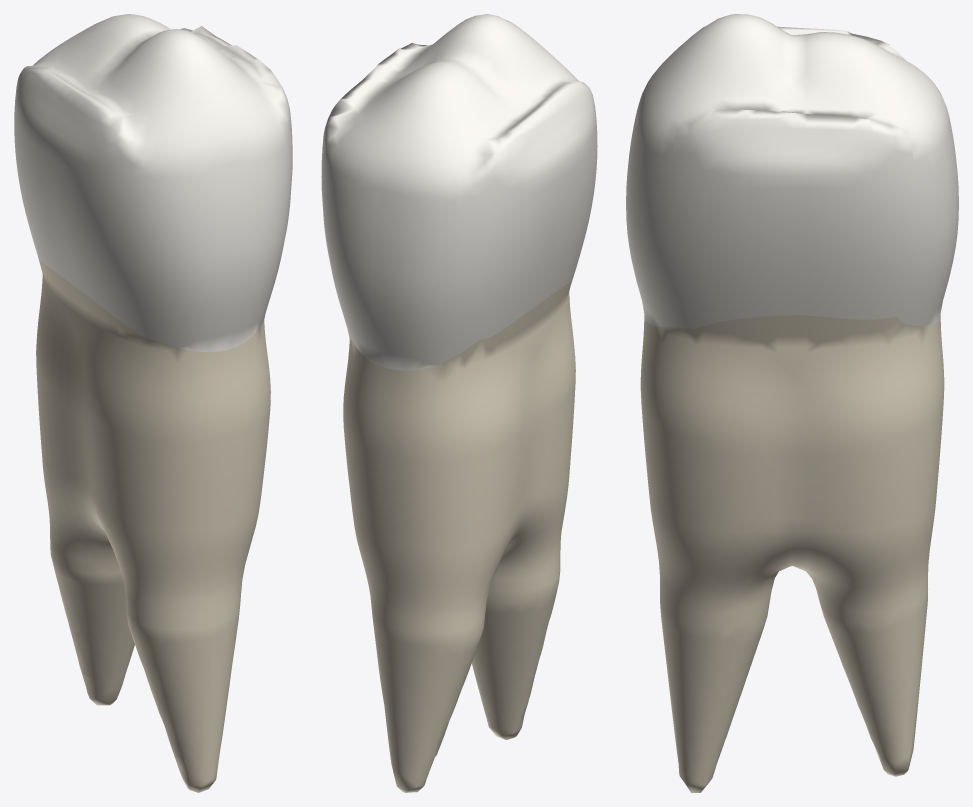
3 renders of one model, left to right at view 1: azimuth 30°, elevation 25°; view 2: azimuth 150°, elevation 25°; view 3: azimuth 270°, elevation 25°, orthographic. The views are drawn at different scales.
Parts seen in each view (by area): view 1: root, V, D, O, M; view 2: root, L, D, O, M; view 3: root, M, O, V, L, D.
Boxes of the visible parts, left/top/right/bottom form: root: left=36, top=256, right=270, bottom=792; V: left=131, top=59, right=291, bottom=352; D: left=14, top=55, right=141, bottom=335; O: left=51, top=14, right=261, bottom=115; M: left=180, top=26, right=292, bottom=189; root: left=343, top=281, right=575, bottom=792; L: left=322, top=101, right=481, bottom=370; D: left=469, top=73, right=597, bottom=340; O: left=353, top=14, right=565, bottom=140; M: left=321, top=43, right=427, bottom=206; root: left=640, top=315, right=944, bottom=792; M: left=670, top=101, right=914, bottom=328; O: left=703, top=14, right=883, bottom=118; V: left=626, top=27, right=704, bottom=328; L: left=880, top=48, right=958, bottom=325; D: left=777, top=26, right=906, bottom=60.
Size of the model in its own units: 6.99 by 23.05 by 9.
